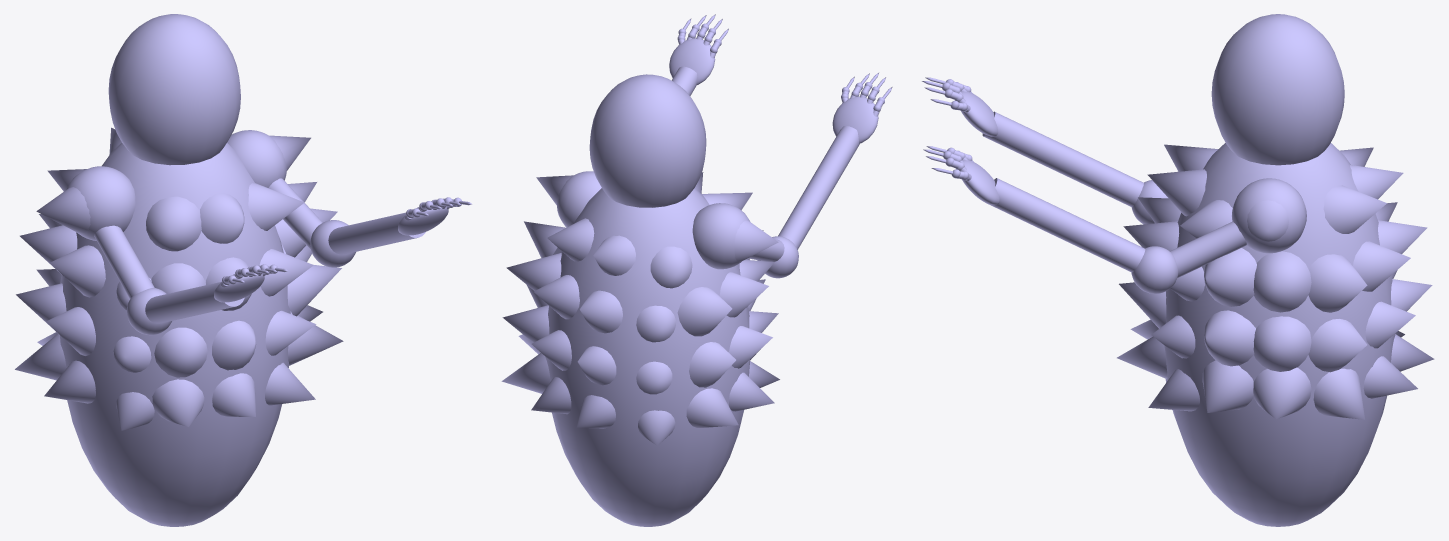
The model's file is GhostUVAnger.FBX.
3 views of the same model, side by side, from view 1: azimuth 30°, elevation 25°; view 2: azimuth 150°, elevation 25°; view 3: azimuth 270°, elevation 25° (orthographic). The views are drawn at different scales.
Visible parts, largest first — view 1: Ghost_Anger_New_UV; view 2: Ghost_Anger_New_UV; view 3: Ghost_Anger_New_UV.
Part boxes in pixels (<box>): Ghost_Anger_New_UV: <box>15,14,472,526</box>; Ghost_Anger_New_UV: <box>501,14,892,526</box>; Ghost_Anger_New_UV: <box>922,14,1434,526</box>.
Size of what is drawn, in the model's own units: 18.78 by 28.67 by 30.95.
